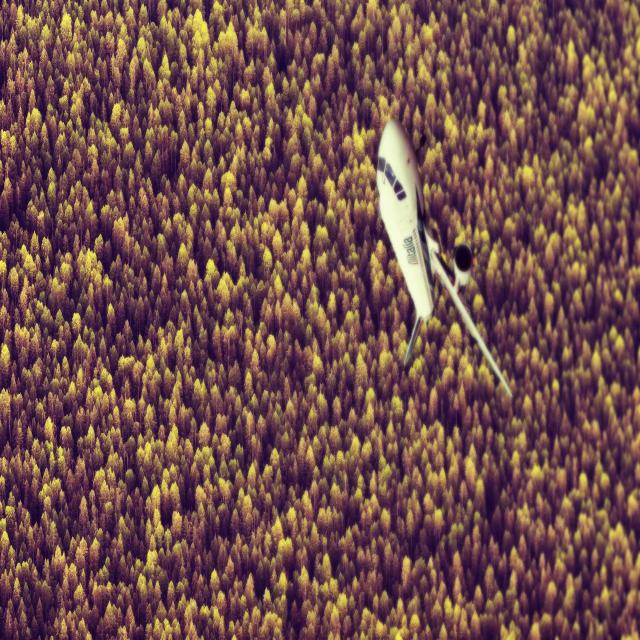airplane: (375, 116, 513, 400)
